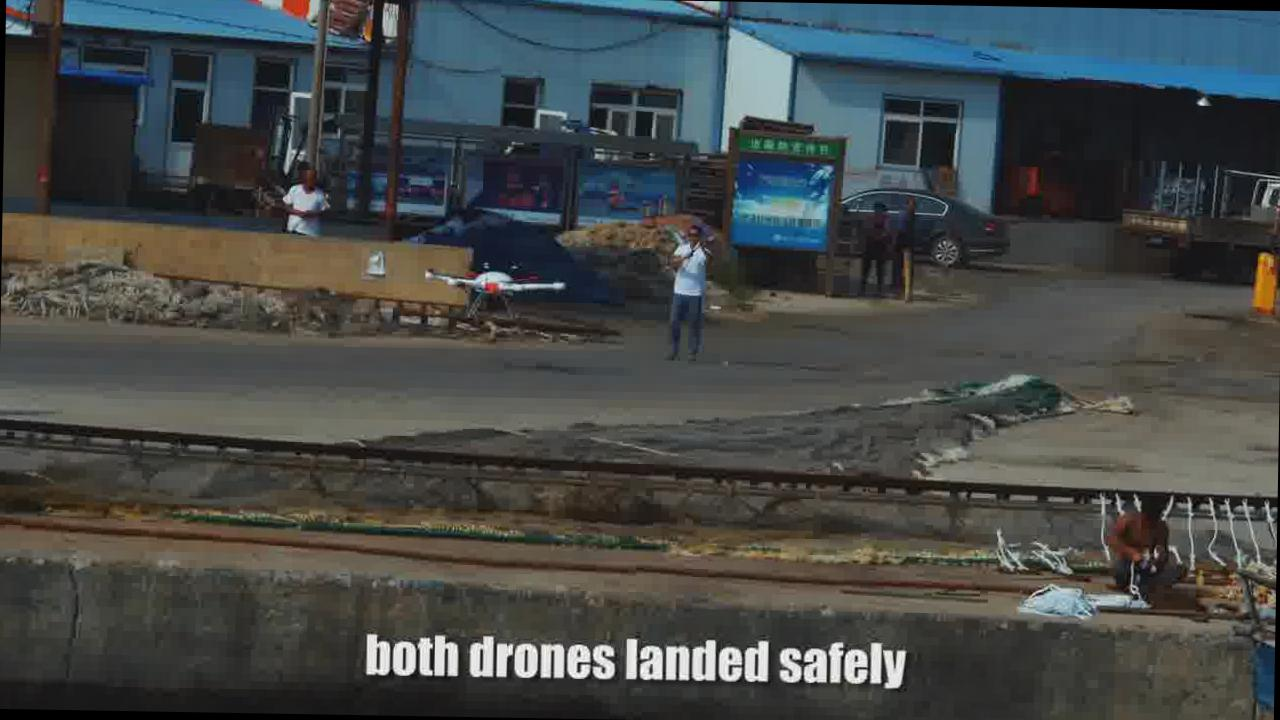drone: (411, 251, 567, 316)
